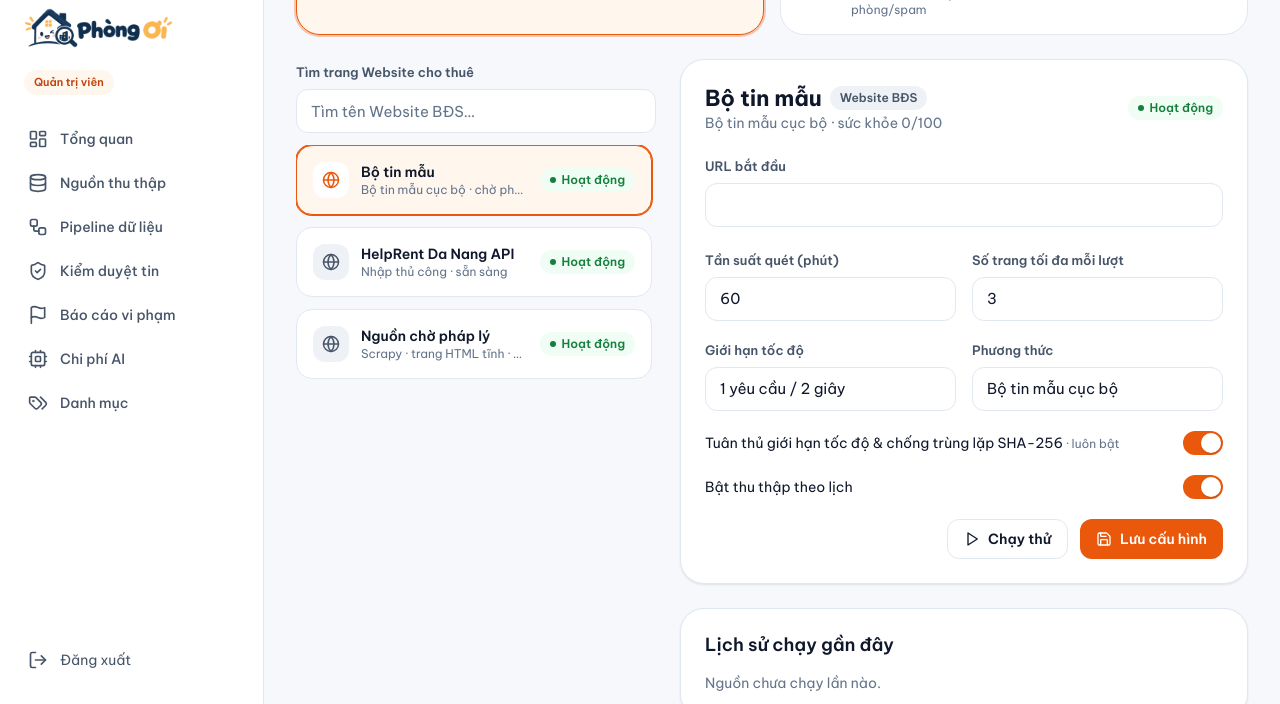
Test: AdminSources › offers a legal approval workflow for external crawlers
This screenshot has width=1280, height=704.
(page scrolled)
Click the button "Nguồn chờ pháp lý": (474, 344) [296,309,652,379]
(page scrolled)
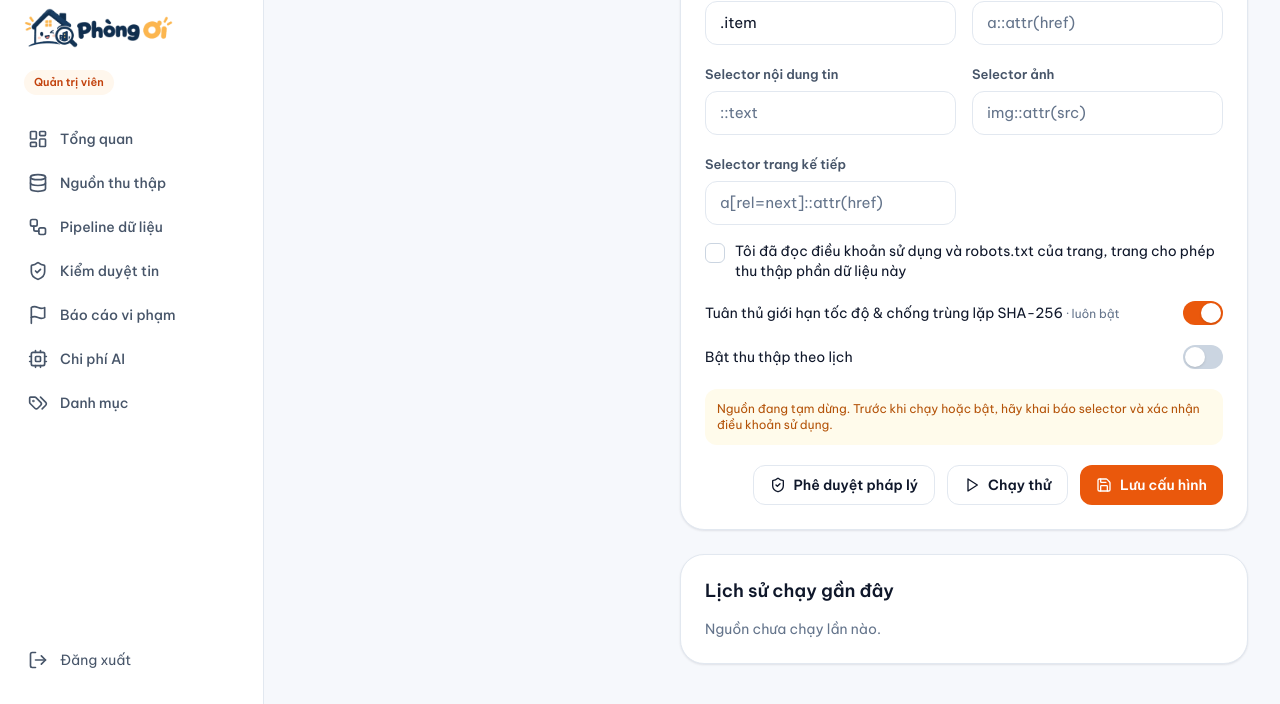
Now the button "Phê duyệt pháp lý" is shown, box [752,465,935,505]
